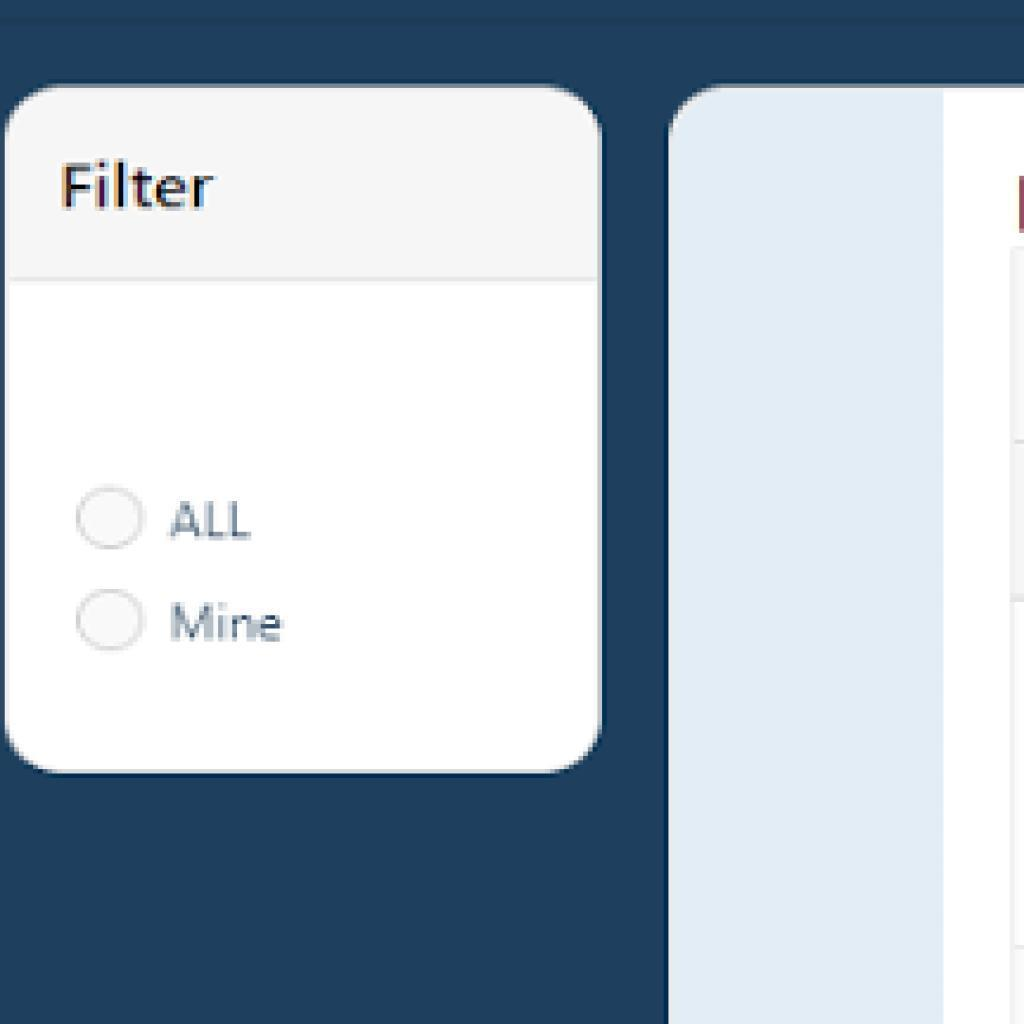label: (172, 595, 287, 647), (170, 491, 257, 551)
radio: (73, 587, 149, 655), (76, 486, 148, 556)
